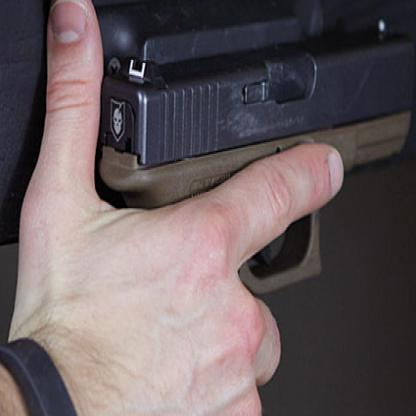gun: (64, 0, 415, 368)
